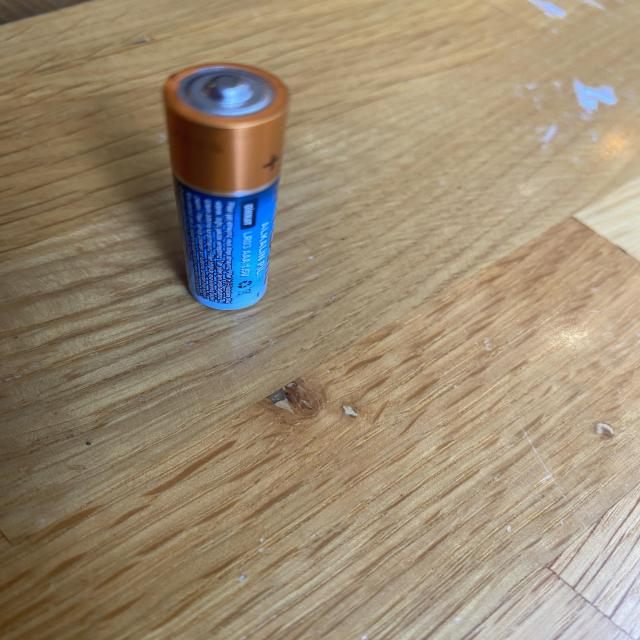AA: (162, 61, 290, 311)
